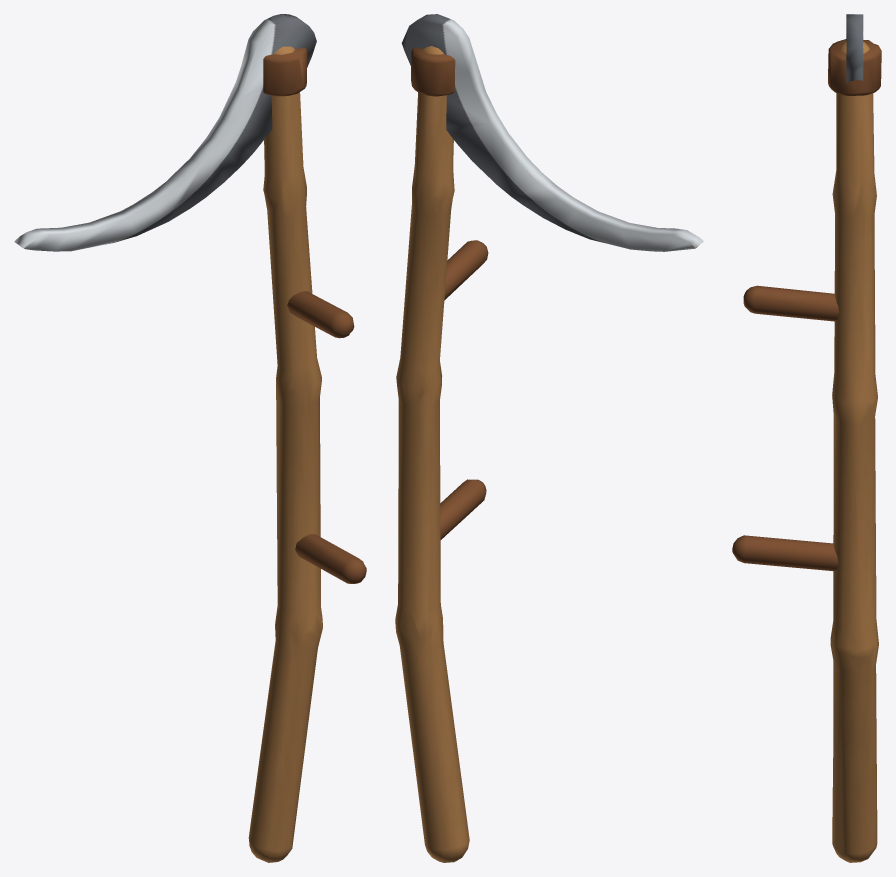
File: scythe.glb
The picture shows the model from 3 angles, left to right: view 1: azimuth 30°, elevation 25°; view 2: azimuth 150°, elevation 25°; view 3: azimuth 270°, elevation 25°; orthographic projection.
Parts seen in each view (by area): view 1: snath; view 2: snath; view 3: snath.
Boxes of the visible parts, x1,y1,x2,y2 form: snath: (14, 14, 366, 862); snath: (395, 14, 703, 862); snath: (732, 14, 881, 862).
Bounding box in the file's own units: 0.6468 × 1.72 × 0.2753.
1 material, 1 textured.
